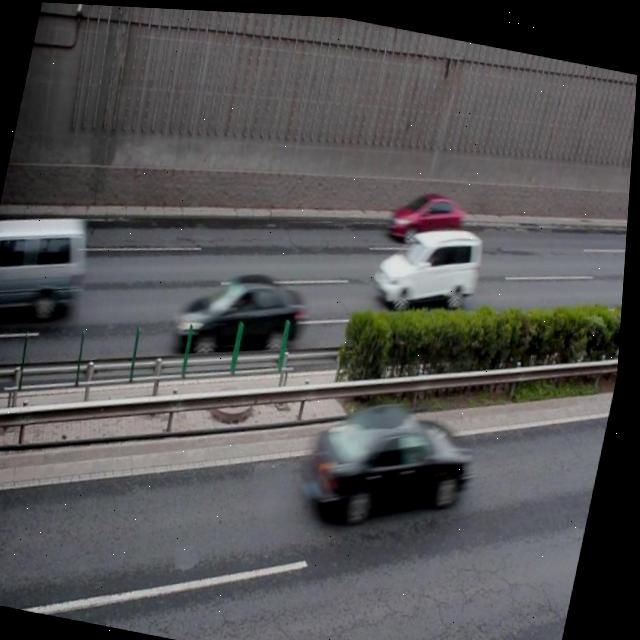car: (304, 382, 484, 537), (172, 256, 316, 370), (370, 210, 489, 318), (387, 180, 470, 252)
truck: (0, 202, 98, 329)
